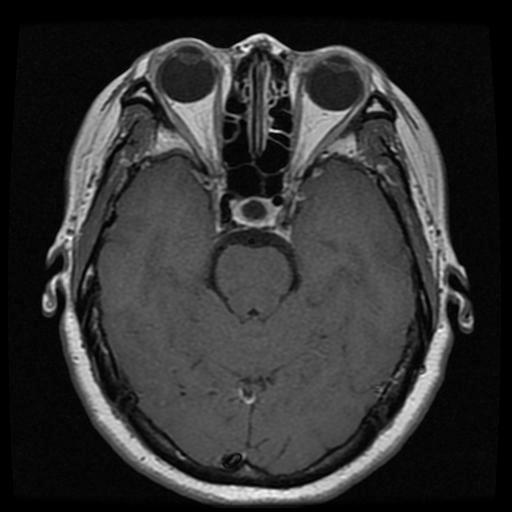Tumour-Pituitary: (211, 192, 302, 239)
